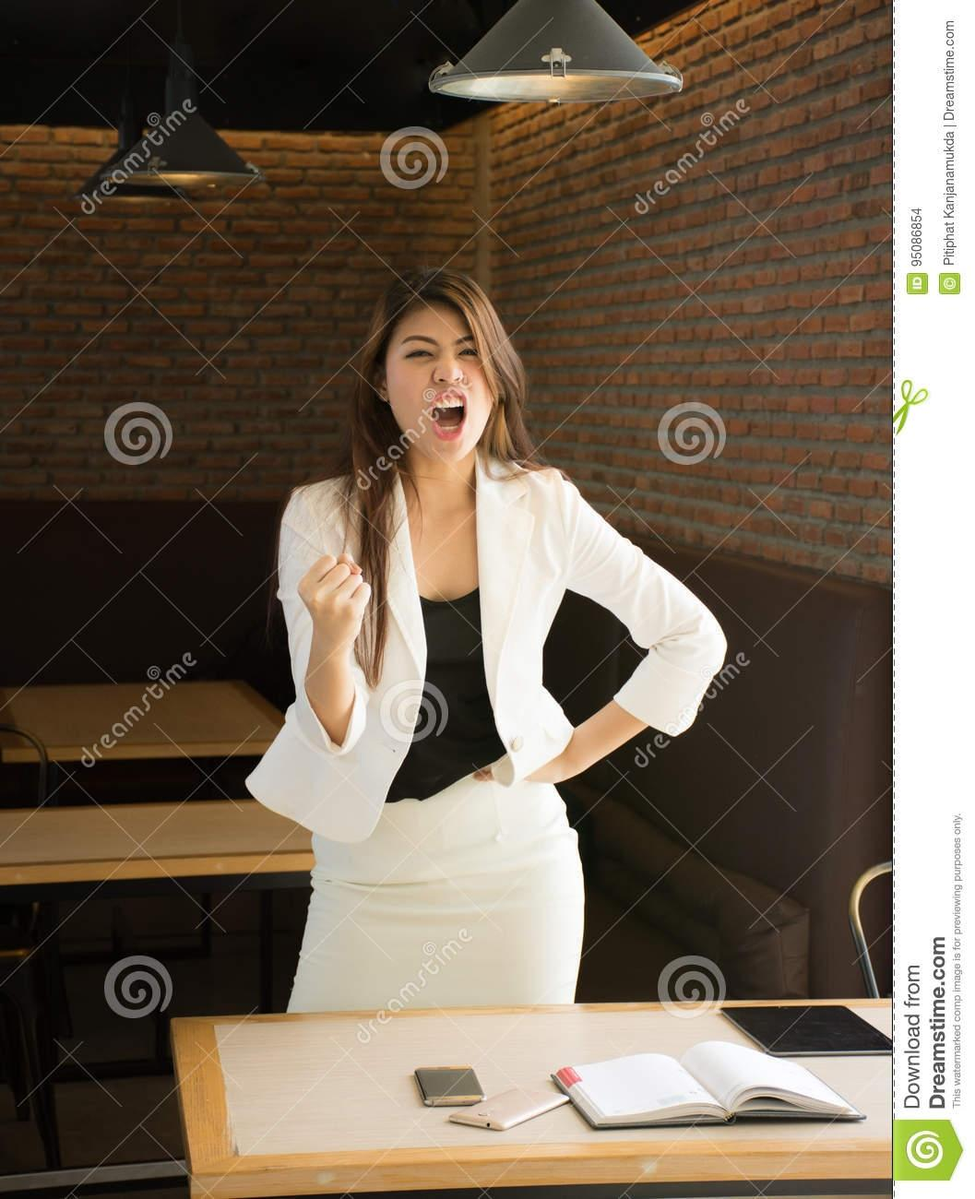FallenBody: (226, 274, 725, 1022)
